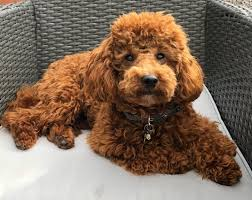Poodle: (20, 5, 250, 194)
